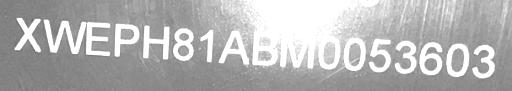letter: (42, 17, 86, 56), (278, 31, 316, 70), (12, 16, 44, 53), (218, 28, 250, 65), (112, 20, 140, 59), (84, 20, 112, 57), (142, 24, 170, 61), (251, 29, 279, 66), (366, 36, 392, 75), (471, 41, 497, 80), (342, 36, 368, 73), (418, 40, 444, 77), (444, 41, 470, 78), (316, 35, 342, 70), (393, 39, 419, 74), (172, 27, 196, 62), (198, 27, 216, 62)
